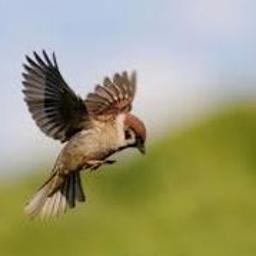Sparrow: (23, 50, 147, 221)
